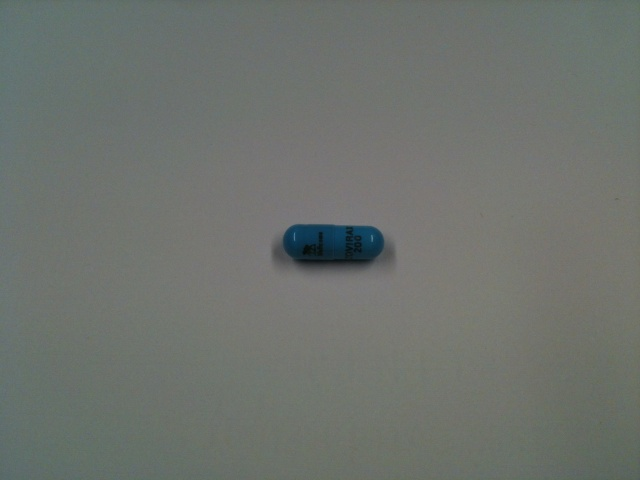capsule: (279, 222, 388, 267)
